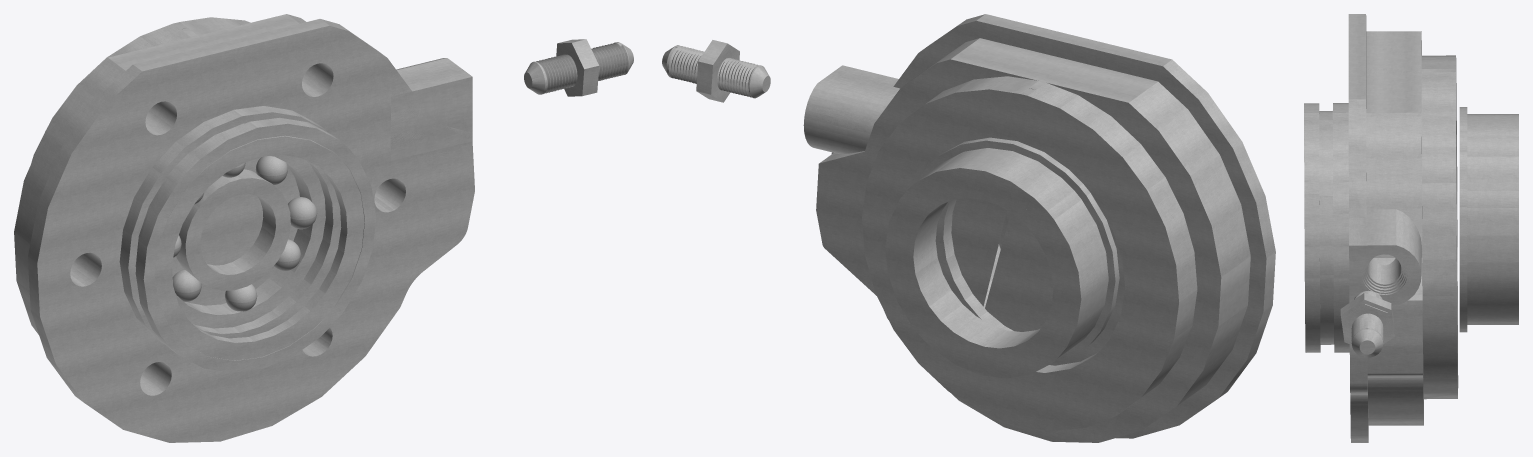
3 views of the same model, side by side, from view 1: azimuth 30°, elevation 25°; view 2: azimuth 150°, elevation 25°; view 3: azimuth 270°, elevation 25° (orthographic). The views are drawn at different scales.
Visible parts, largest first — view 1: 3, 2, 1, 7, 8; view 2: 3, 4, 2, 7, 8; view 3: 3, 4, 8, 7.
Part boxes in pixels (bbox=[...]): 3: bbox=[14, 14, 474, 442]; 2: bbox=[172, 155, 341, 338]; 1: bbox=[155, 135, 364, 360]; 7: bbox=[524, 42, 633, 94]; 8: bbox=[556, 39, 599, 96]; 3: bbox=[803, 14, 1275, 442]; 4: bbox=[885, 137, 1119, 378]; 2: bbox=[935, 199, 1125, 365]; 7: bbox=[662, 45, 770, 98]; 8: bbox=[696, 40, 739, 102]; 3: bbox=[1304, 14, 1458, 442]; 4: bbox=[1459, 107, 1518, 332]; 8: bbox=[1340, 293, 1394, 344]; 7: bbox=[1351, 290, 1383, 357].
Bounding box in the file's own units: 577 × 358 × 191.
7 materials, 7 textured.
